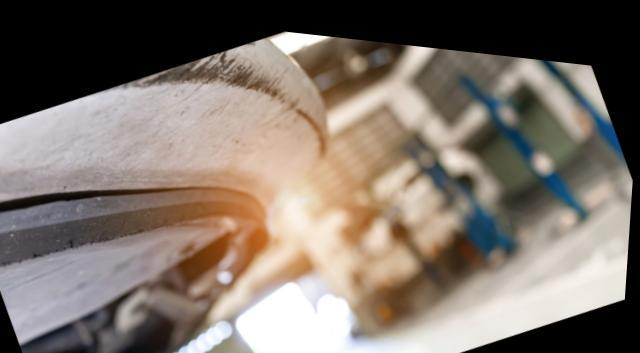scratch: (22, 30, 333, 155)
